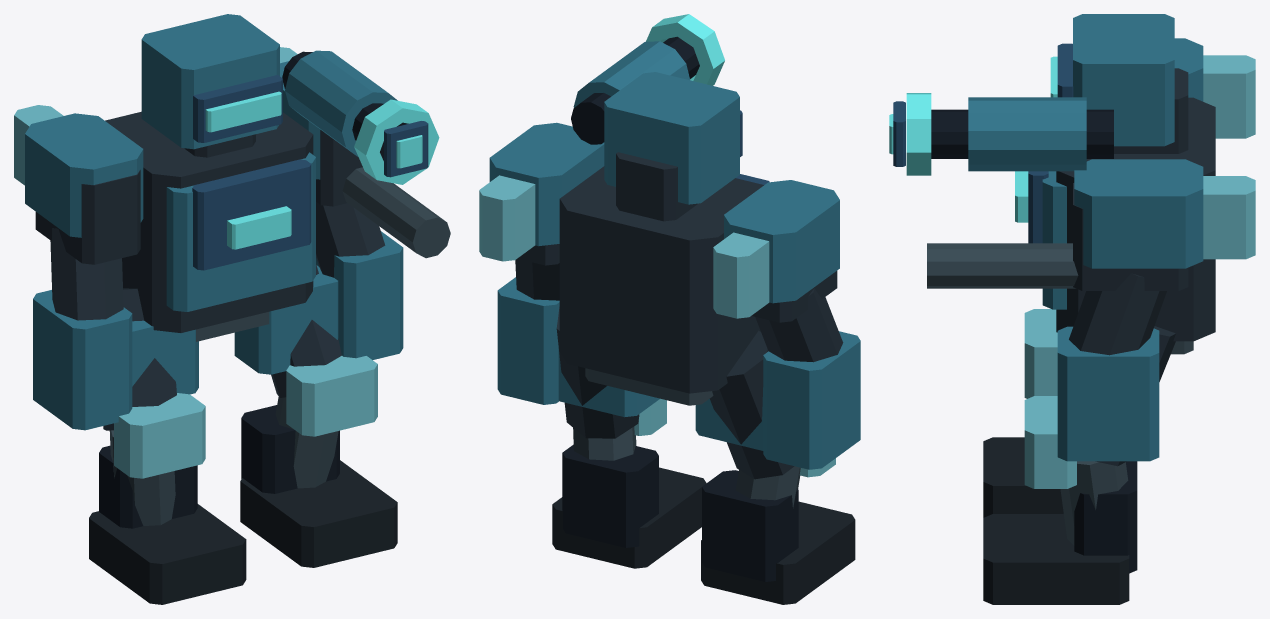
The model's file is enemy_marksman_lod.obj.
3 views of the same model, side by side, from view 1: azimuth 30°, elevation 25°; view 2: azimuth 150°, elevation 25°; view 3: azimuth 270°, elevation 25° (orthographic). The views are drawn at different scales.
Size of the model in its own units: 1.44 by 2.02 by 1.33.
